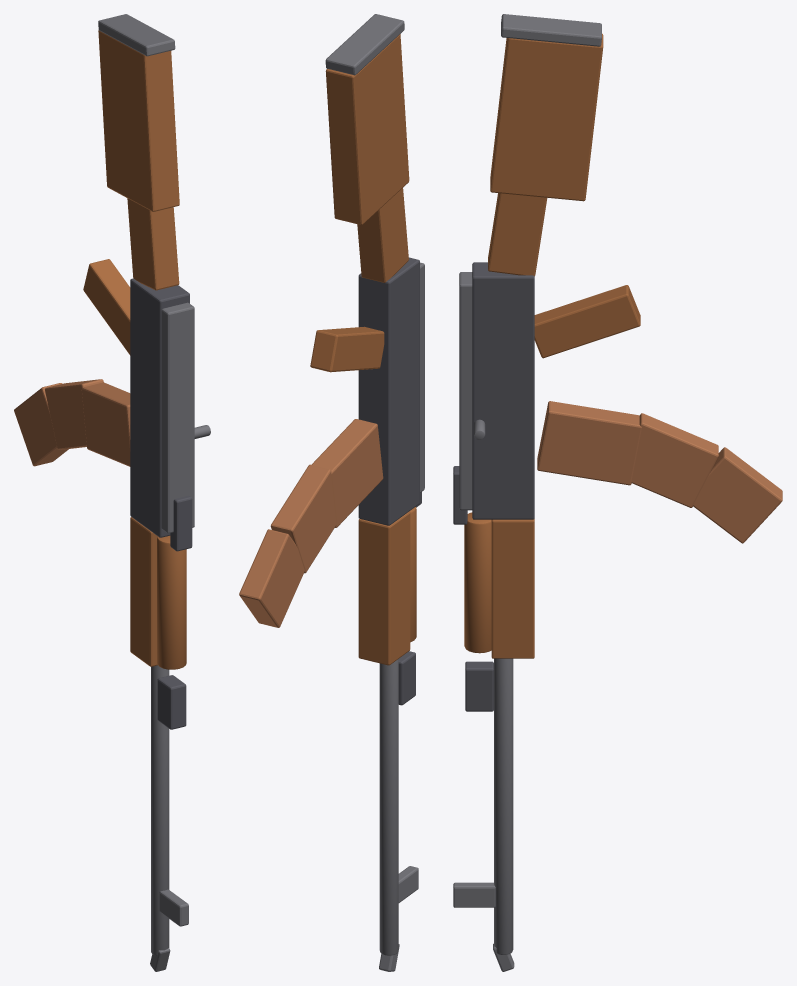
The picture shows the model from 3 angles, left to right: view 1: azimuth 30°, elevation 25°; view 2: azimuth 150°, elevation 25°; view 3: azimuth 270°, elevation 25°; orthographic projection. The views are drawn at different scales.
Visible parts, largest first — view 1: ak47; view 2: ak47; view 3: ak47.
Boxes of the visible parts, bbox=[...] form: ak47: bbox=[14, 14, 210, 971]; ak47: bbox=[239, 14, 424, 971]; ak47: bbox=[453, 14, 782, 971].
Bounding box in the file's own units: 0.0645 × 1.09 × 0.3435.
